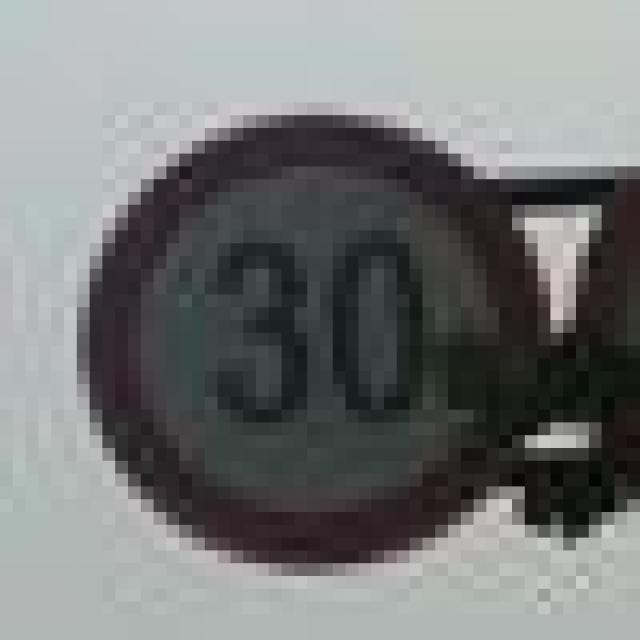SPEED_LIMIT_30: (52, 102, 550, 576)
